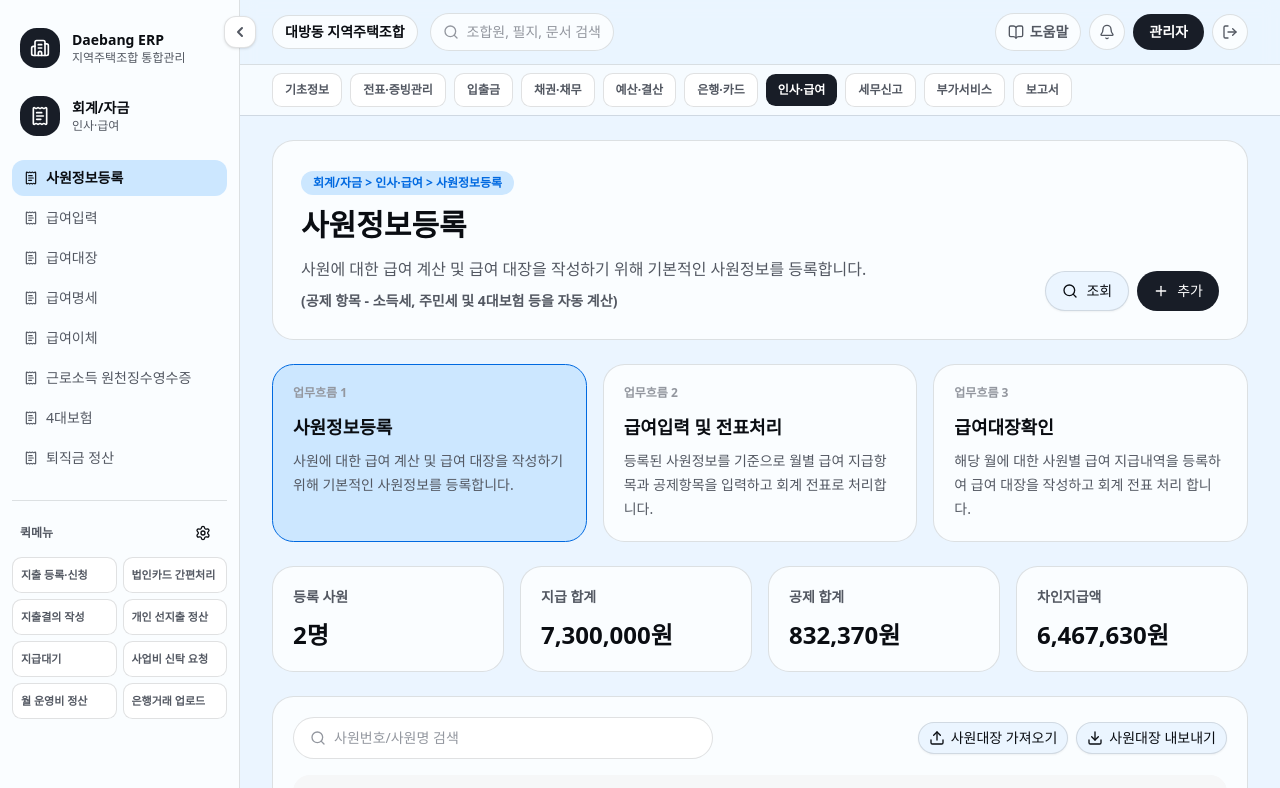
Scenario: HrPayrollPage › renders employee registration and opens the employee form
The width and height of the screenshot is (1280, 788).
Expected: the heading "사원정보등록" is shown, top-left (301, 204), bottom-right (467, 245)
Expected: the text "회계/자금 > 인사·급여 > 사원정보등록" is shown, top-left (301, 171), bottom-right (514, 195)
What coordinates should you click on to do the following:
click the button "추가"
I would click on:
 (1178, 291)
Its box is top-left (1137, 271), bottom-right (1219, 311).
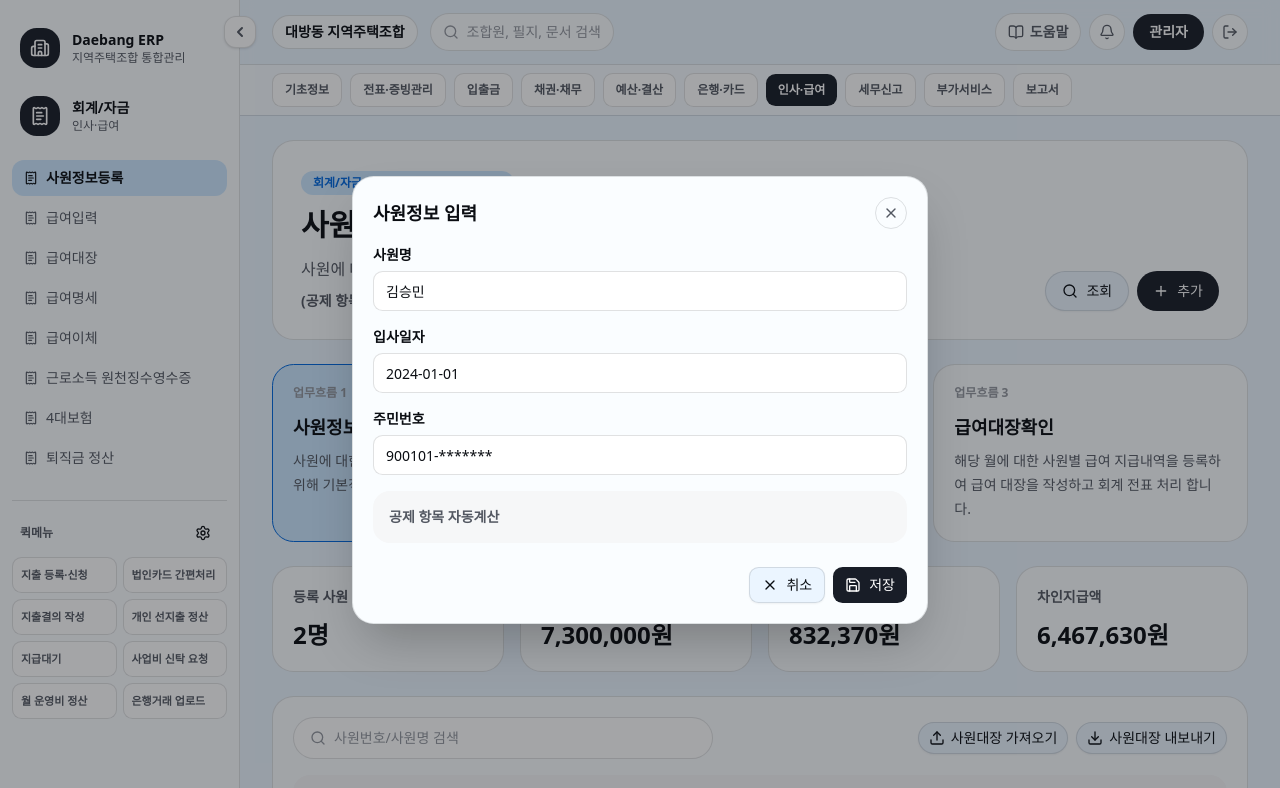
Now the field labelled "사원명" is shown, box top-left (373, 271), bottom-right (907, 311)
Now the field labelled "입사일자" is shown, box top-left (373, 353), bottom-right (907, 393)
Now the text "공제 항목 자동계산" is shown, box top-left (373, 491), bottom-right (907, 543)
